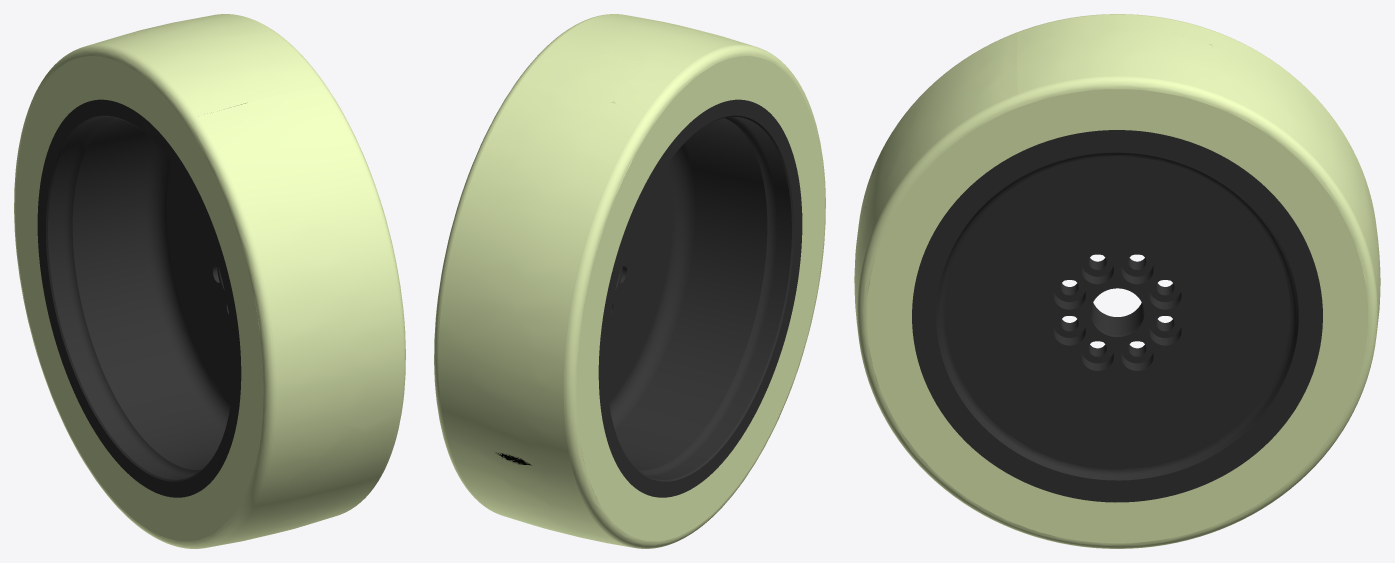
The model's file is main_wheel.dae.
3 views of the same model, side by side, from view 1: azimuth 30°, elevation 25°; view 2: azimuth 150°, elevation 25°; view 3: azimuth 270°, elevation 25° (orthographic).
Visible parts, largest first — view 1: Object; view 2: Object; view 3: Object.
Boxes of the visible parts, x1,y1,x2,y2 form: Object: (14,14,405,548); Object: (434,14,825,548); Object: (854,14,1380,548).
Size of the model in its own units: 0.05 by 0.16 by 0.1599.
1 material, 1 textured.
